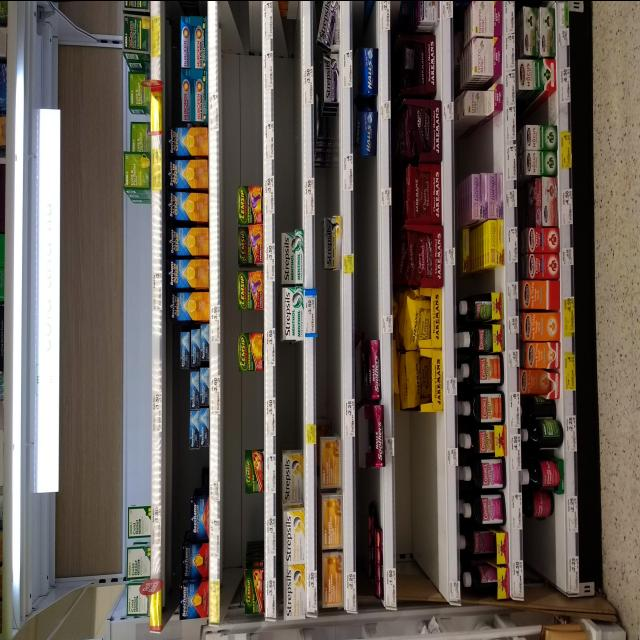empty_space: (130, 201, 150, 499), (396, 415, 436, 563), (355, 166, 377, 334), (279, 45, 298, 223), (236, 53, 260, 179), (319, 272, 337, 424), (527, 519, 561, 580), (280, 340, 300, 442), (235, 379, 263, 444), (459, 128, 499, 167), (314, 157, 338, 212), (242, 492, 262, 541), (188, 446, 208, 488), (470, 274, 502, 296), (239, 309, 261, 333)
